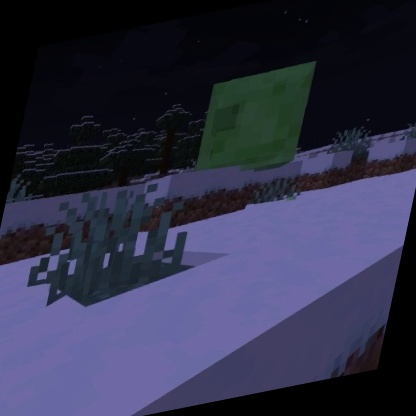slime: (187, 55, 325, 187)
